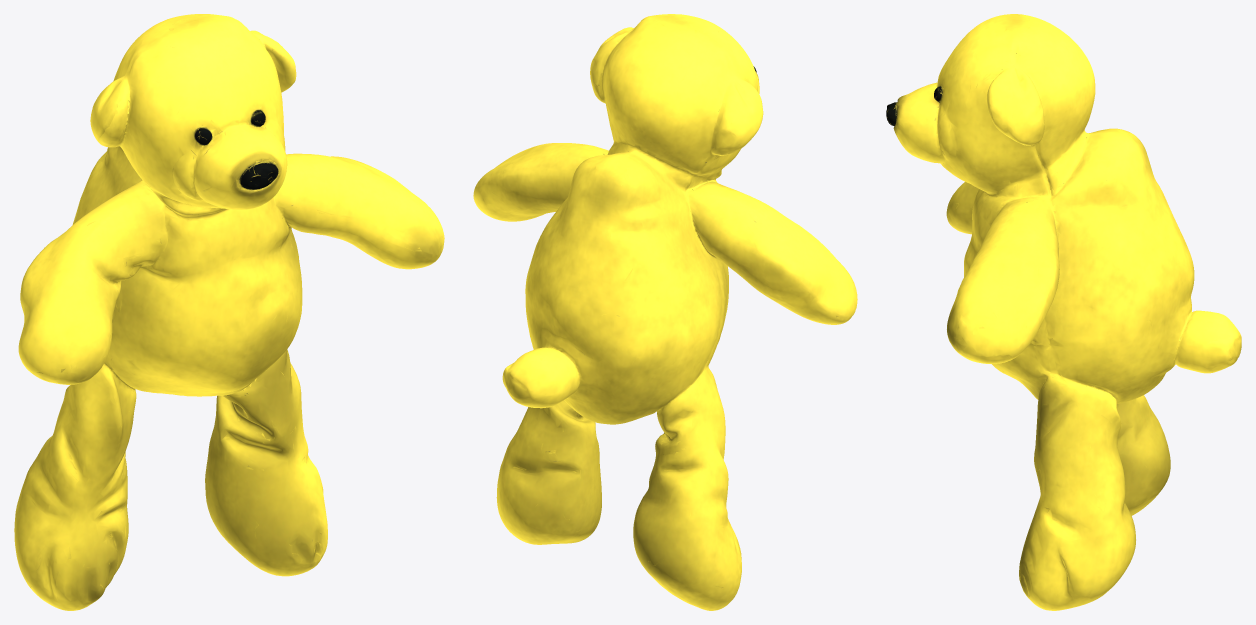
The picture shows the model from 3 angles, left to right: view 1: azimuth 30°, elevation 25°; view 2: azimuth 150°, elevation 25°; view 3: azimuth 270°, elevation 25°; orthographic projection. The views are drawn at different scales.
Visible parts, largest first — view 1: Object_01; view 2: Object_01; view 3: Object_01.
Boxes of the visible parts, box(x1,y1,x2,y2) form: Object_01: box(14, 14, 444, 610); Object_01: box(473, 14, 857, 610); Object_01: box(886, 14, 1241, 610).
Size of the model in its own units: 1.36 by 1.9 by 1.13.
1 material, 1 textured.
